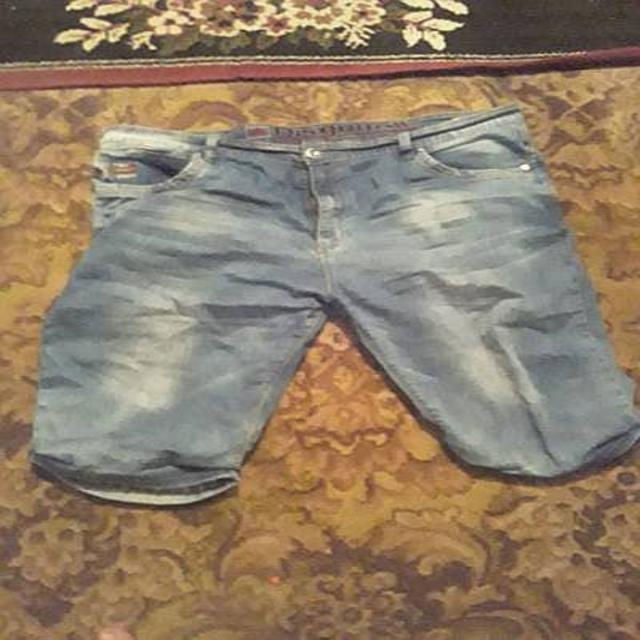SHORT: (21, 105, 640, 517)
